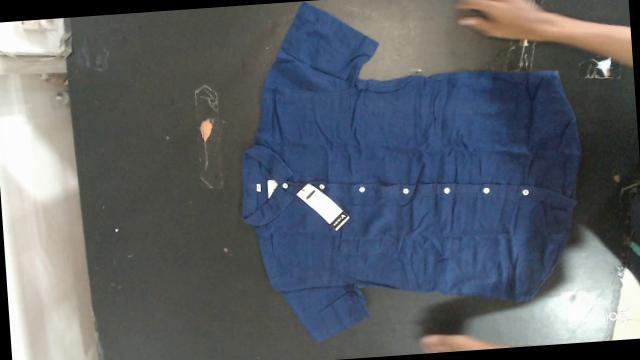new-garment: (241, 2, 580, 341)
